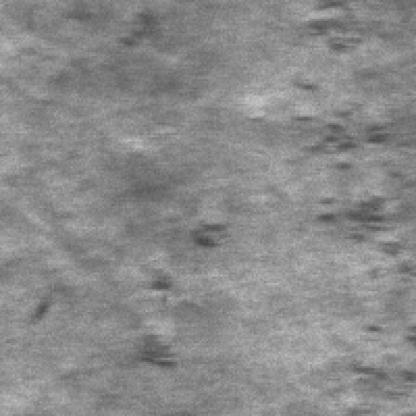rolled-in_scale: (285, 13, 408, 406), (115, 214, 220, 366), (299, 0, 378, 62)
